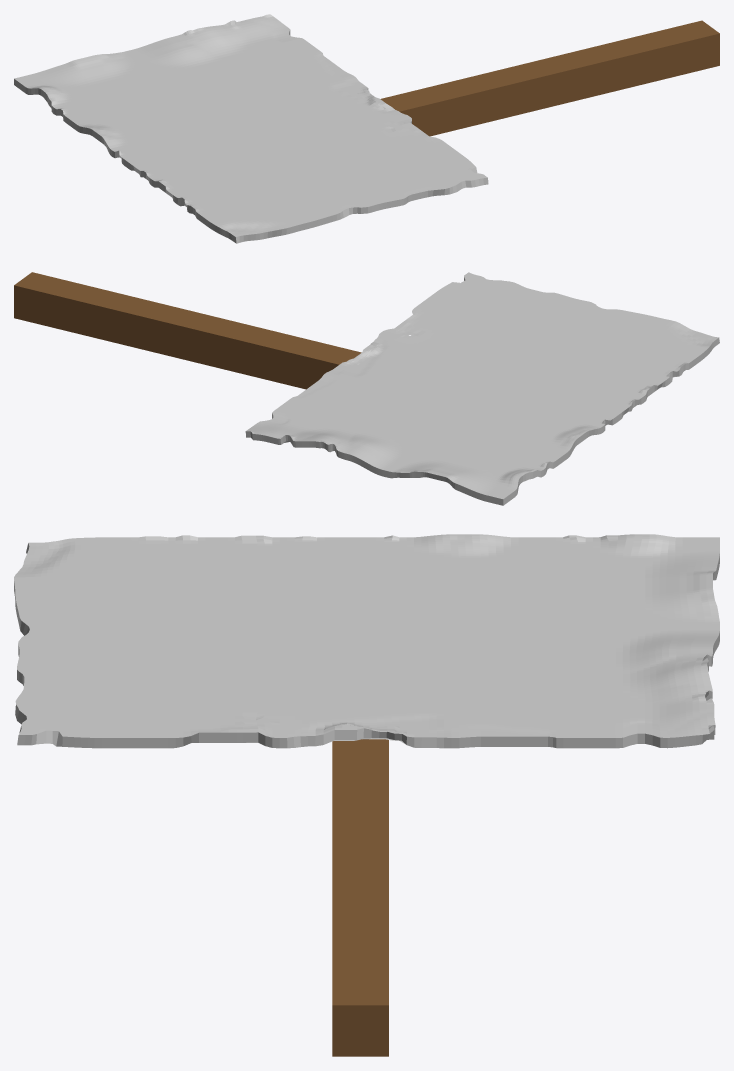
File: sign.obj
The picture shows the model from 3 angles, top to bottom: view 1: azimuth 30°, elevation 25°; view 2: azimuth 150°, elevation 25°; view 3: azimuth 270°, elevation 25°; orthographic projection. The views are drawn at different scales.
Parts seen in each view (by area): view 1: Plane_Plane.001, Cube_Cube.001; view 2: Plane_Plane.001, Cube_Cube.001; view 3: Plane_Plane.001, Cube_Cube.001.
Boxes of the visible parts, left/top/right/bottom form: Plane_Plane.001: left=14, top=14, right=488, bottom=243; Cube_Cube.001: left=380, top=20, right=719, bottom=136; Plane_Plane.001: left=245, top=272, right=719, bottom=505; Cube_Cube.001: left=14, top=272, right=361, bottom=389; Plane_Plane.001: left=14, top=534, right=719, bottom=748; Cube_Cube.001: left=332, top=739, right=388, bottom=1056.
Bounding box in the file's own units: 4.53 × 0.373 × 2.97.
